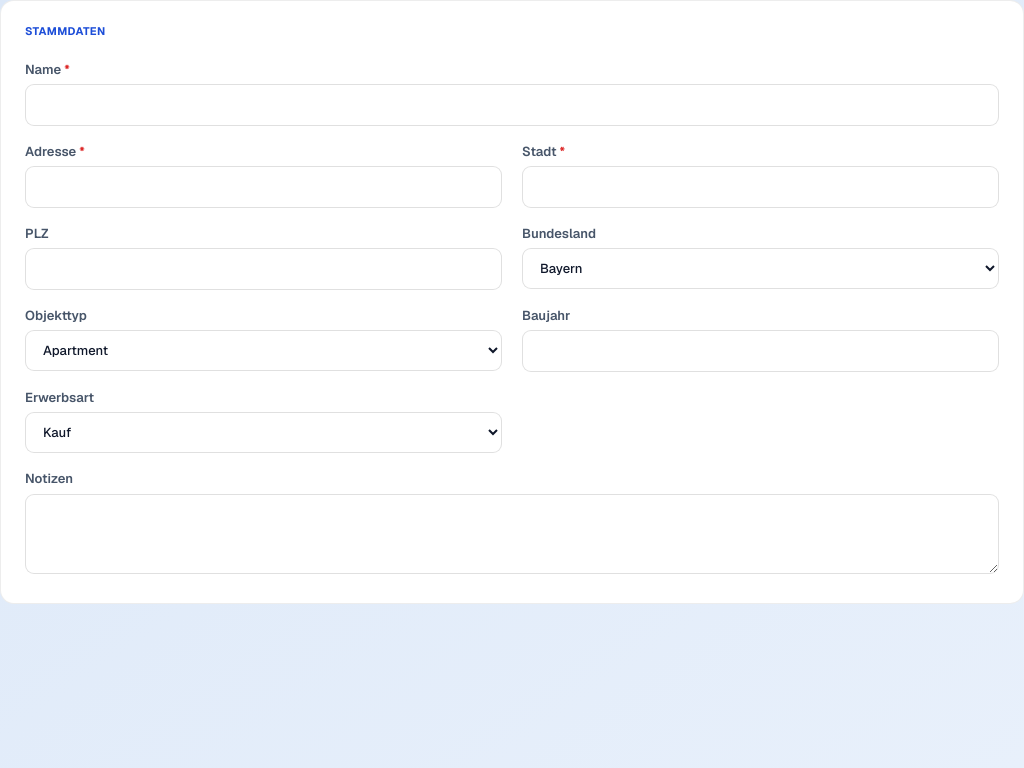
StepStammdaten Bundesland from PLZ › keeps the Bundesland and asks for a valid PLZ when a complete PLZ is unknown
Step 1. Type "00000" into the field labelled "PLZ" → (264, 269), box [25, 248, 502, 290]
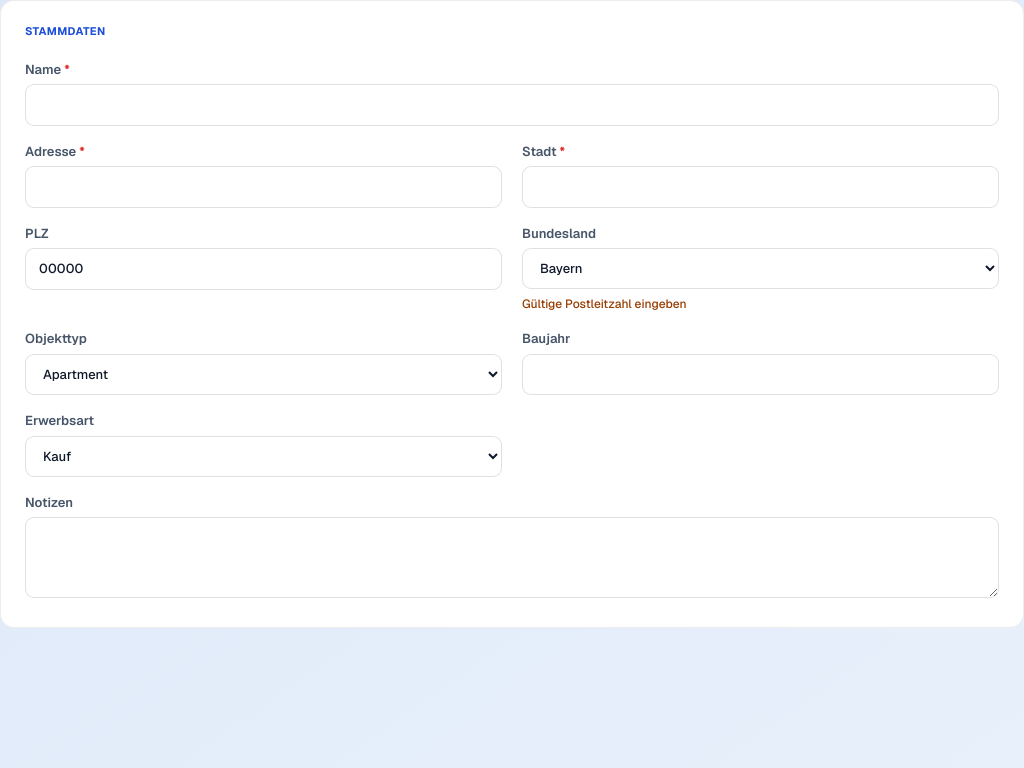
Check: the dropdown labelled "Bundesland" shows "Bayern", box [522, 248, 999, 289]
Check: the text "Gültige Postleitzahl eingeben" is shown, box [522, 296, 686, 312]
